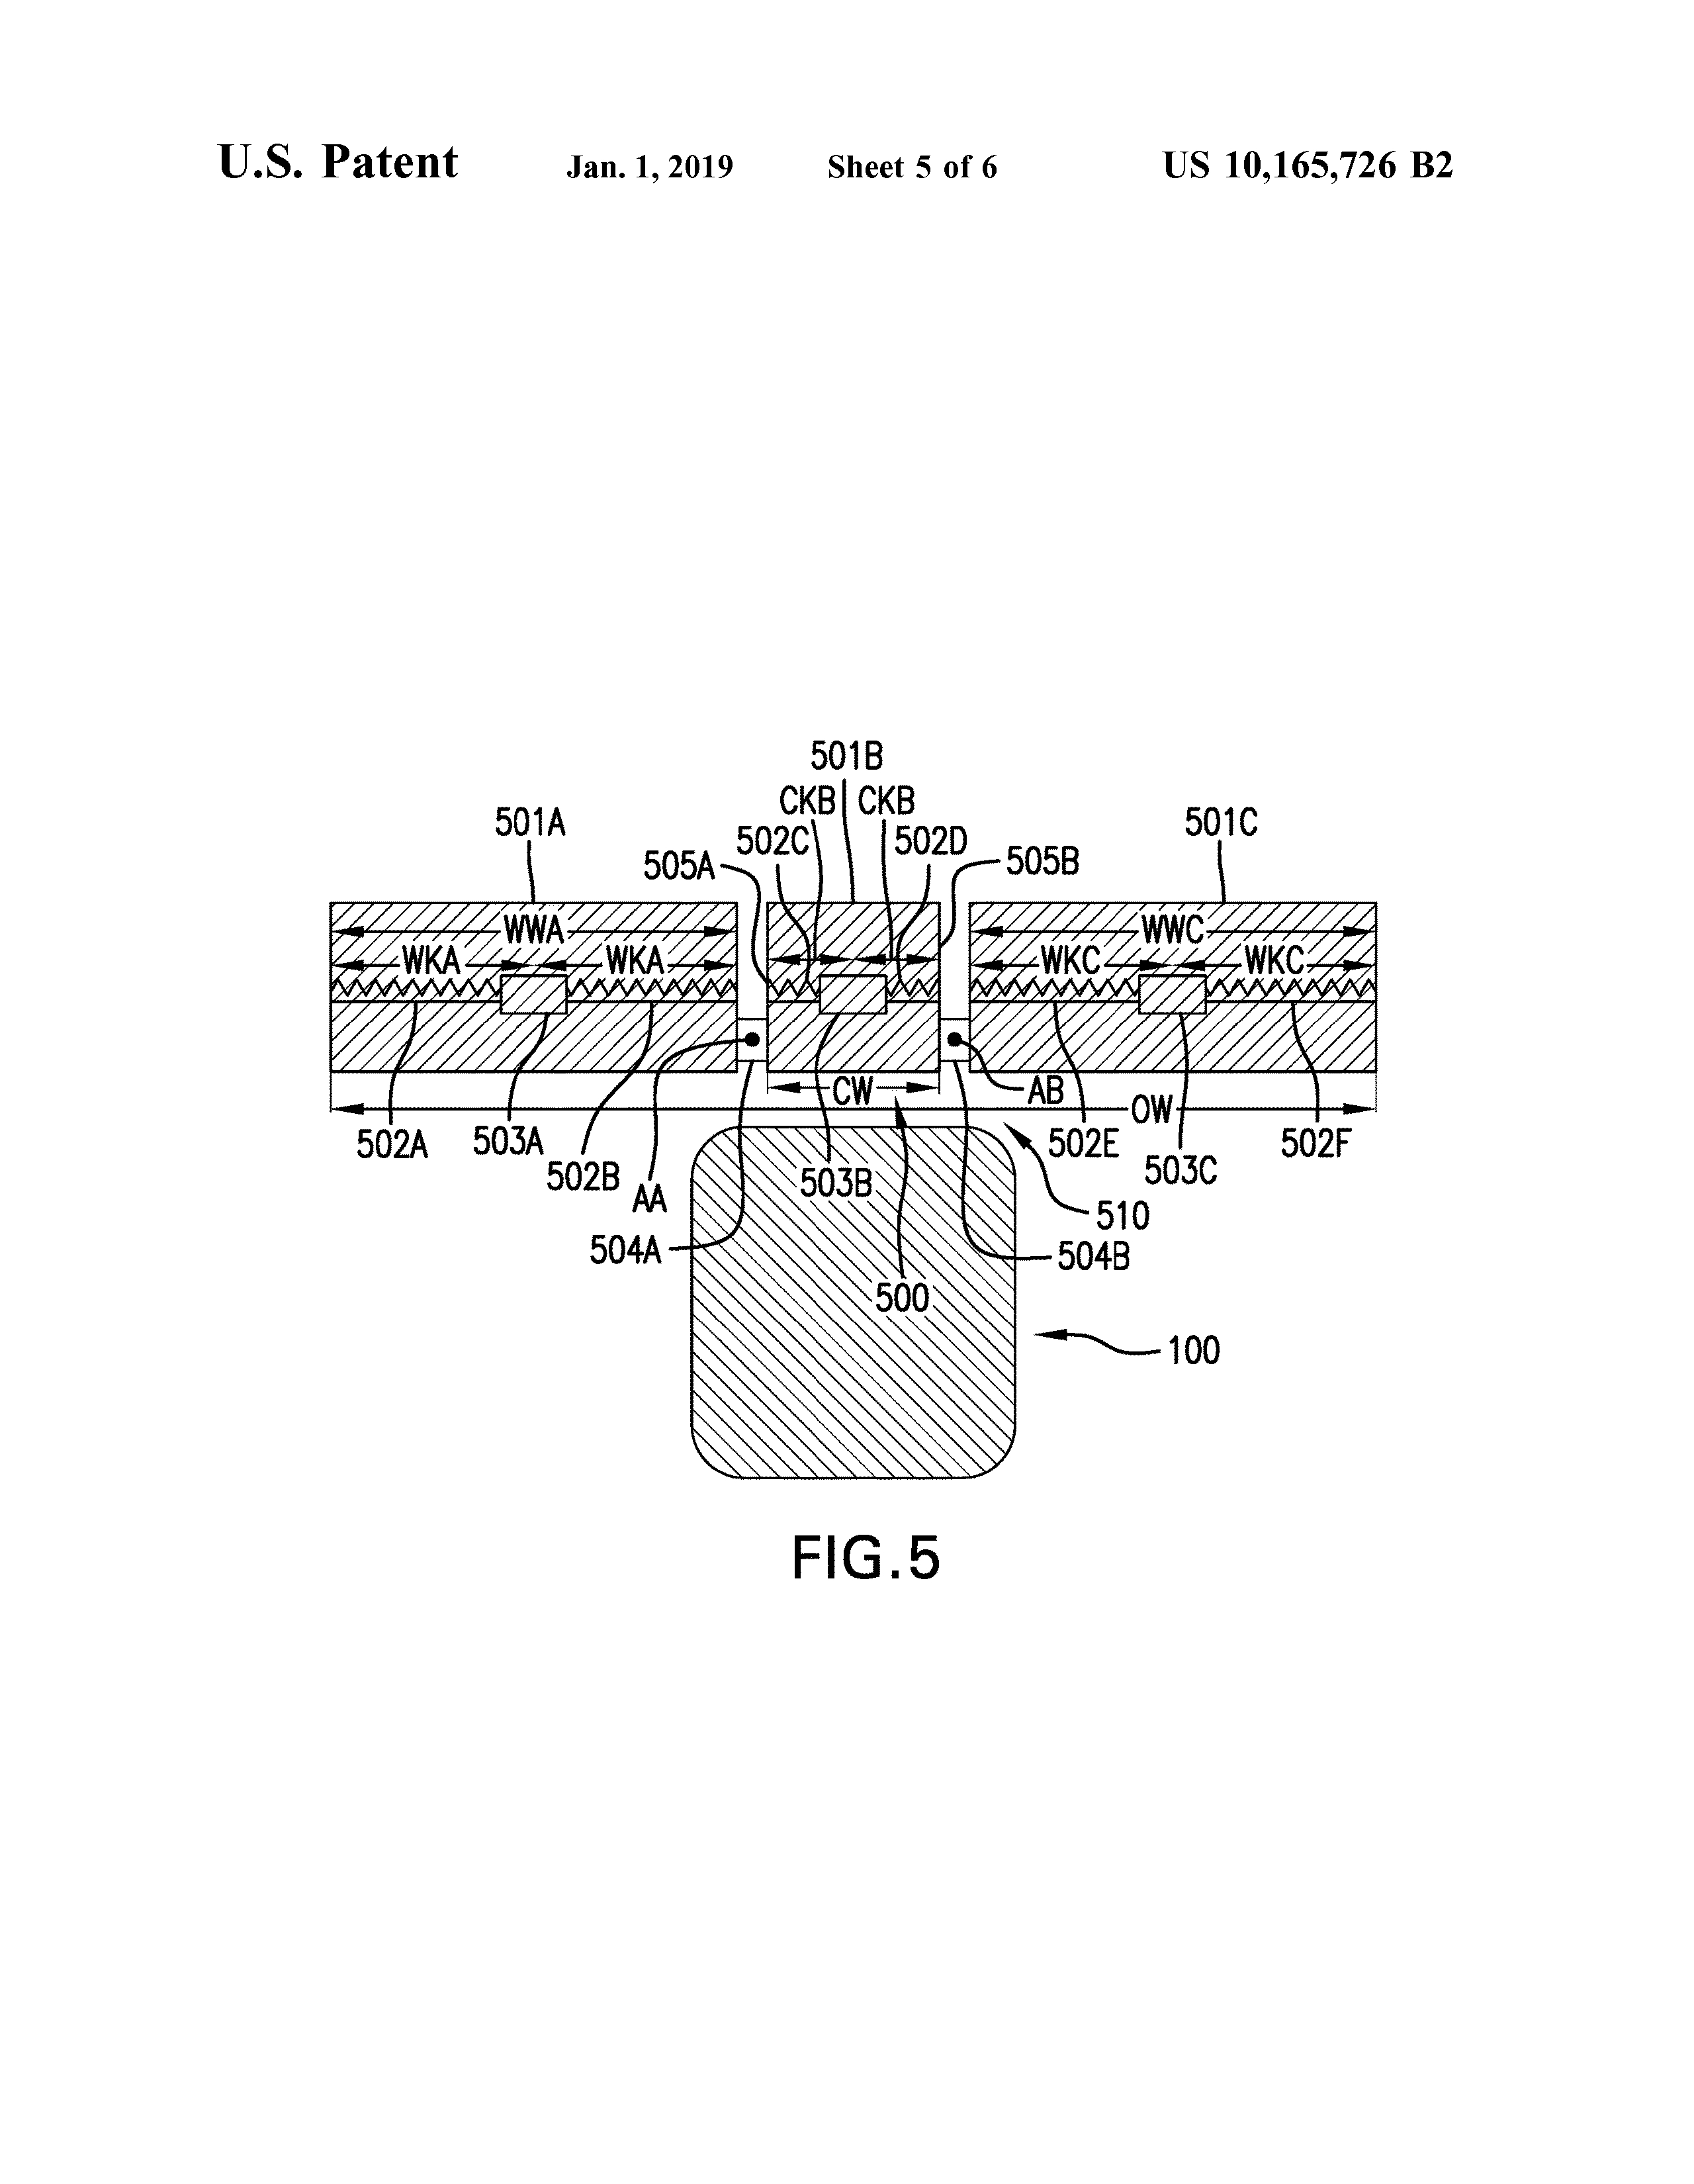patent image: (279, 688, 1423, 1629)
